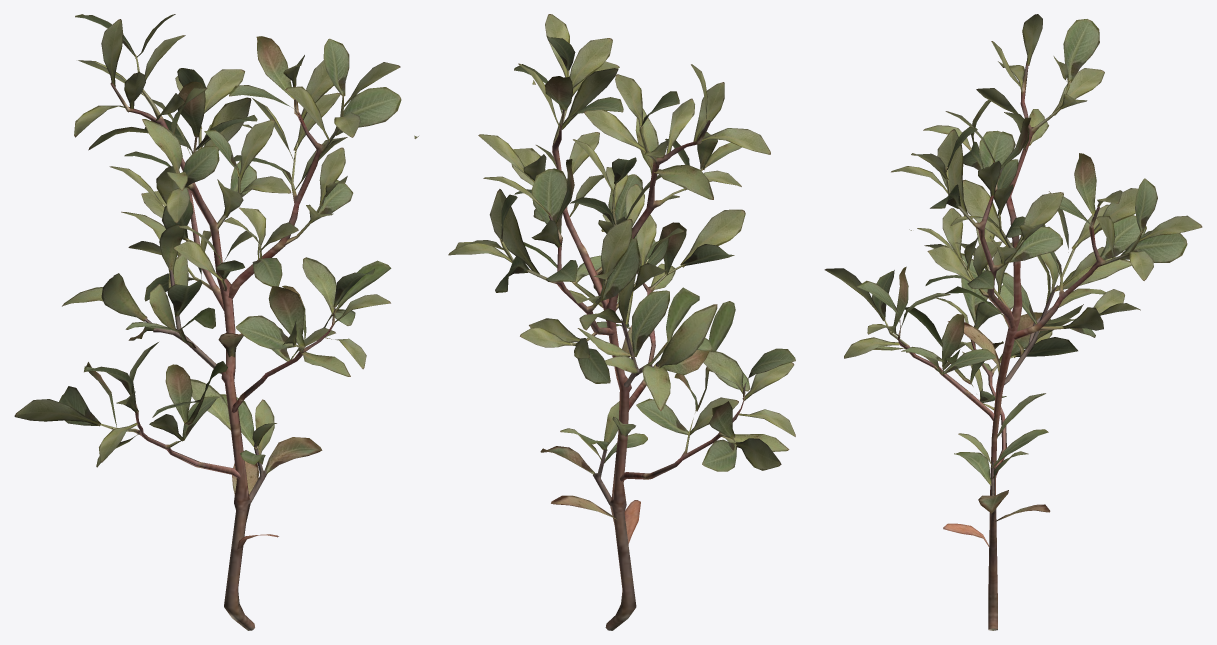
File: shrub_04_c.glb
The picture shows the model from 3 angles, left to right: view 1: azimuth 30°, elevation 25°; view 2: azimuth 150°, elevation 25°; view 3: azimuth 270°, elevation 25°; orthographic projection. The views are drawn at different scales.
Visible parts, largest first — view 1: shrub_04_c; view 2: shrub_04_c; view 3: shrub_04_c.
Boxes of the visible parts, bbox=[...] form: shrub_04_c: bbox=[14, 14, 418, 630]; shrub_04_c: bbox=[448, 14, 795, 630]; shrub_04_c: bbox=[824, 14, 1202, 630].
Bounding box in the file's own units: 0.1221 × 0.2192 × 0.1317.
1 material, 1 textured.
